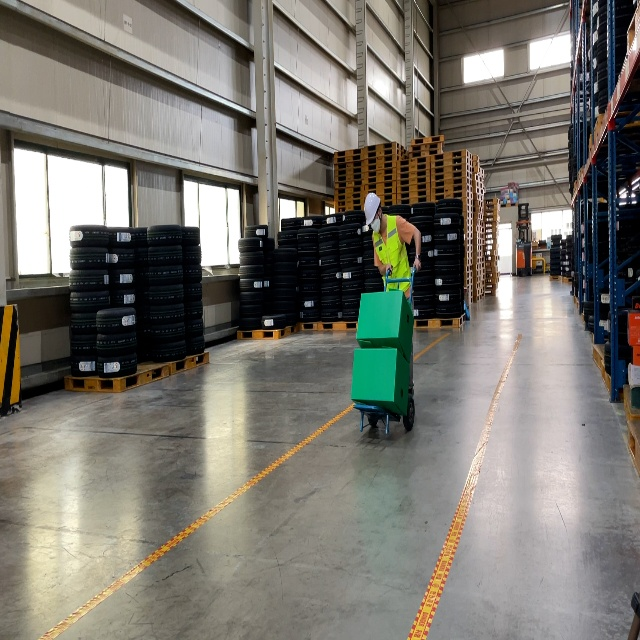Box: (356, 287, 414, 365), (350, 345, 411, 416)
Worker: (364, 192, 422, 398)
